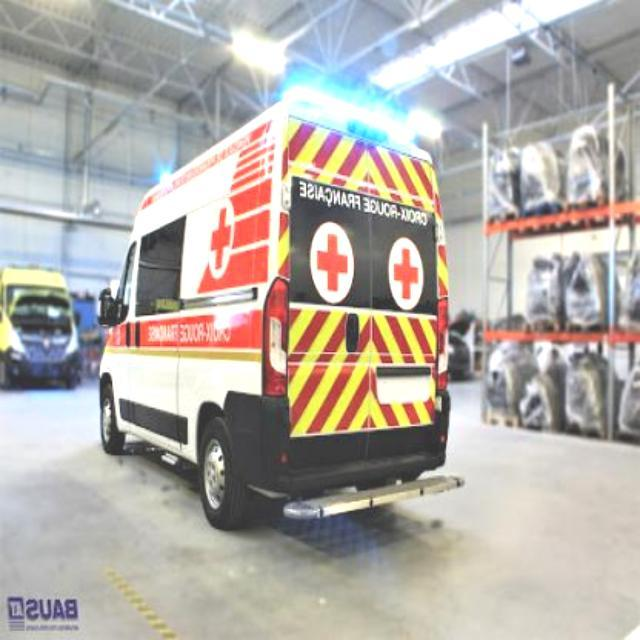emergency-vehicle: (101, 90, 467, 532)
